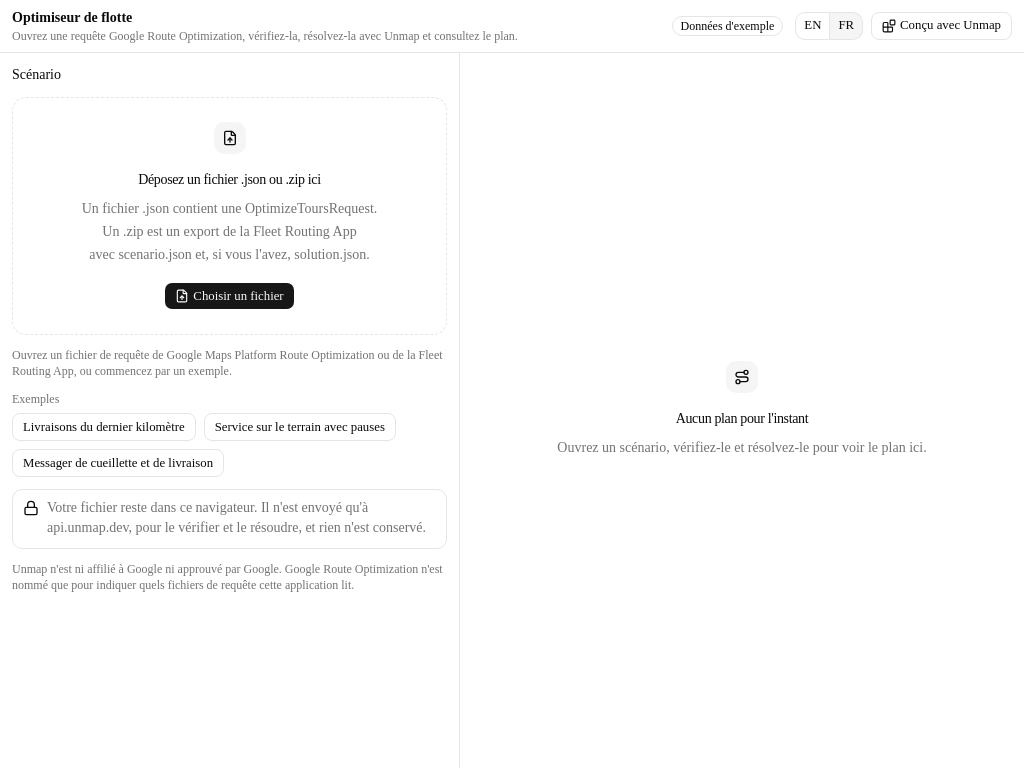
Fleet Optimizer panels (fr) › a blocked report disables solve
Expected: the heading "Scénario" is shown, [12,67,61,82]
Click the button "Livraisons du dernier kilomètre" at (104, 427), box [12,413,196,441]
(page scrolled)
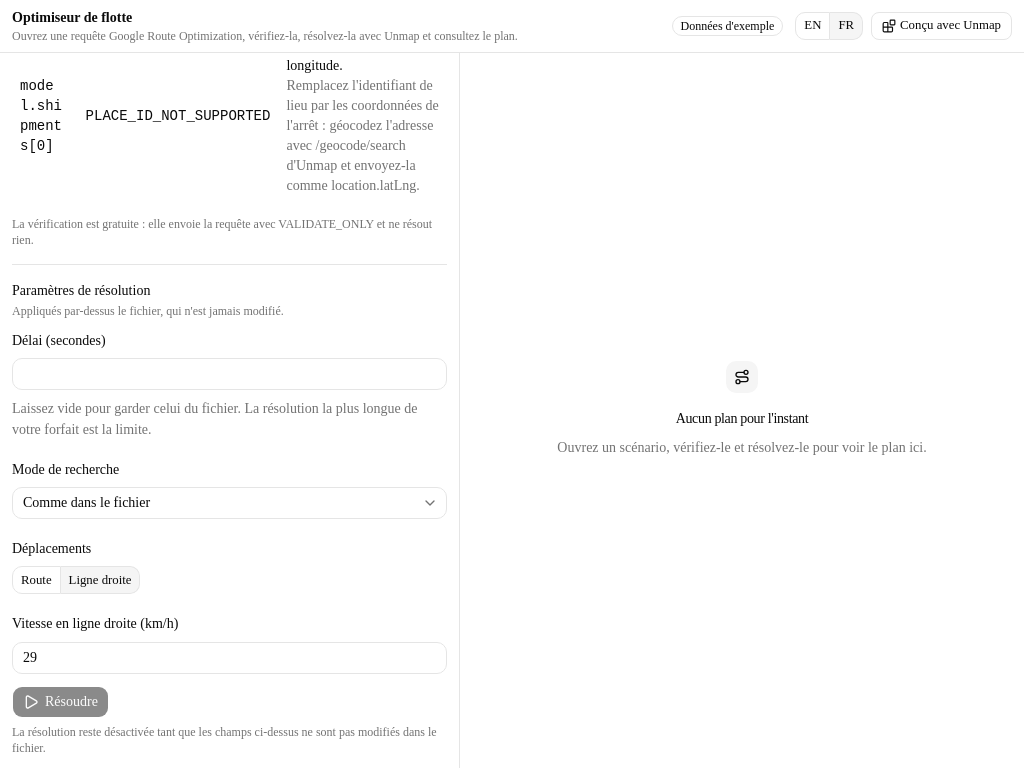
Result: the table shows "PLACE_ID_NOT_SUPPORTED" at [86,108,270,124]
Result: the text "Remplacez l'identifiant de lieu par les coordonnées de l'arrêt : géocodez l'adresse avec /geocode/search d'Unmap et envoyez-la comme location.latLng." is shown at [286,78,439,192]
Result: the text "La résolution reste désactivée tant que les champs ci-dessus ne sont pas modifiés dans le fichier." is shown at [12,724,436,754]
